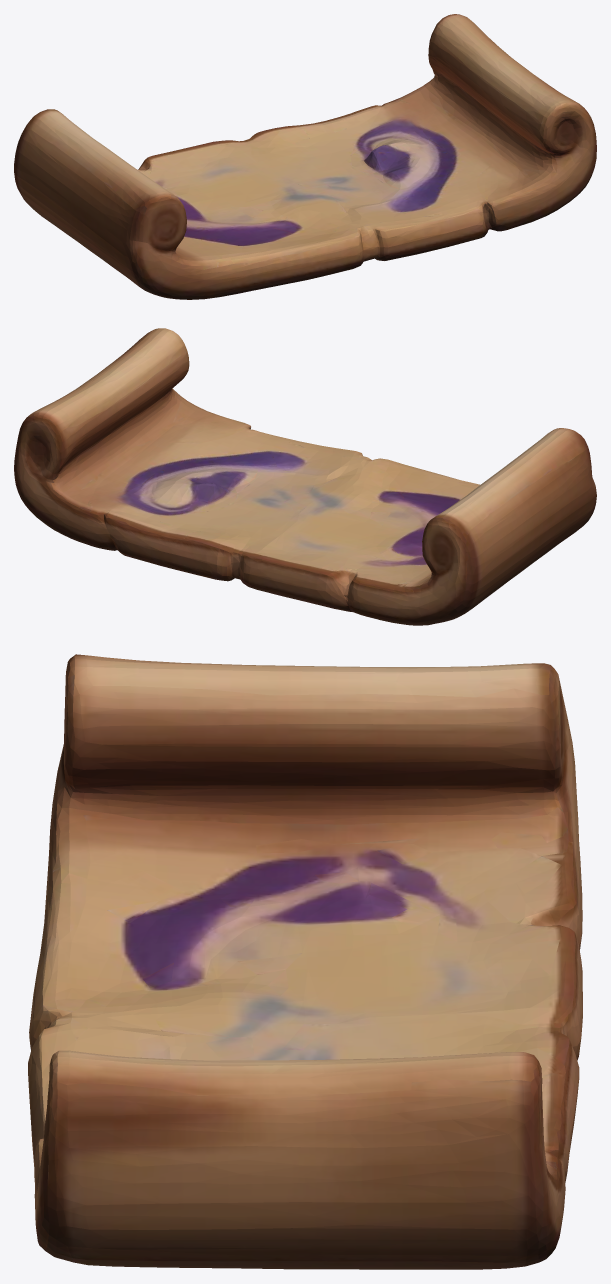
Rendered from open_scroll.glb.
3 views of the same model, one above another, from view 1: azimuth 30°, elevation 25°; view 2: azimuth 150°, elevation 25°; view 3: azimuth 270°, elevation 25° (orthographic). The views are drawn at different scales.
Visible parts, largest first — view 1: world; view 2: world; view 3: world.
Part boxes in pixels (x1,y1,x2,y2): world: (14, 14, 596, 299); world: (14, 328, 596, 625); world: (28, 654, 582, 1269).
Bounding box in the file's own units: 0.999 × 0.2425 × 0.5212.
1 material, 1 textured.
